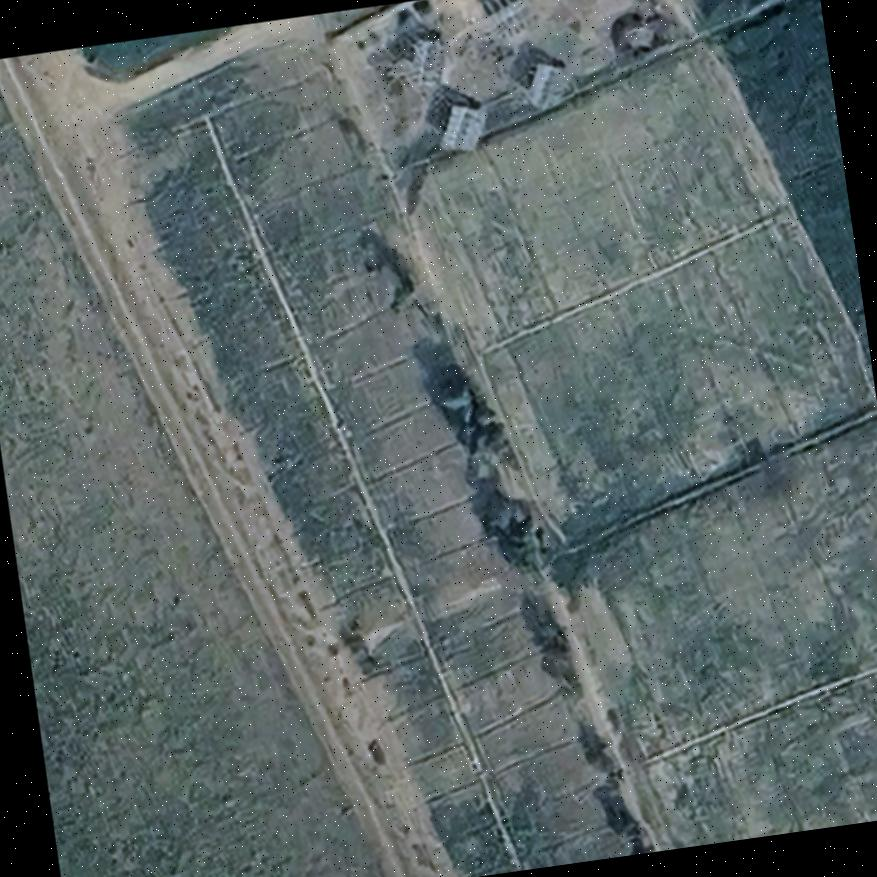Solarpanel: (436, 103, 486, 152), (484, 0, 532, 36), (523, 62, 551, 106)
